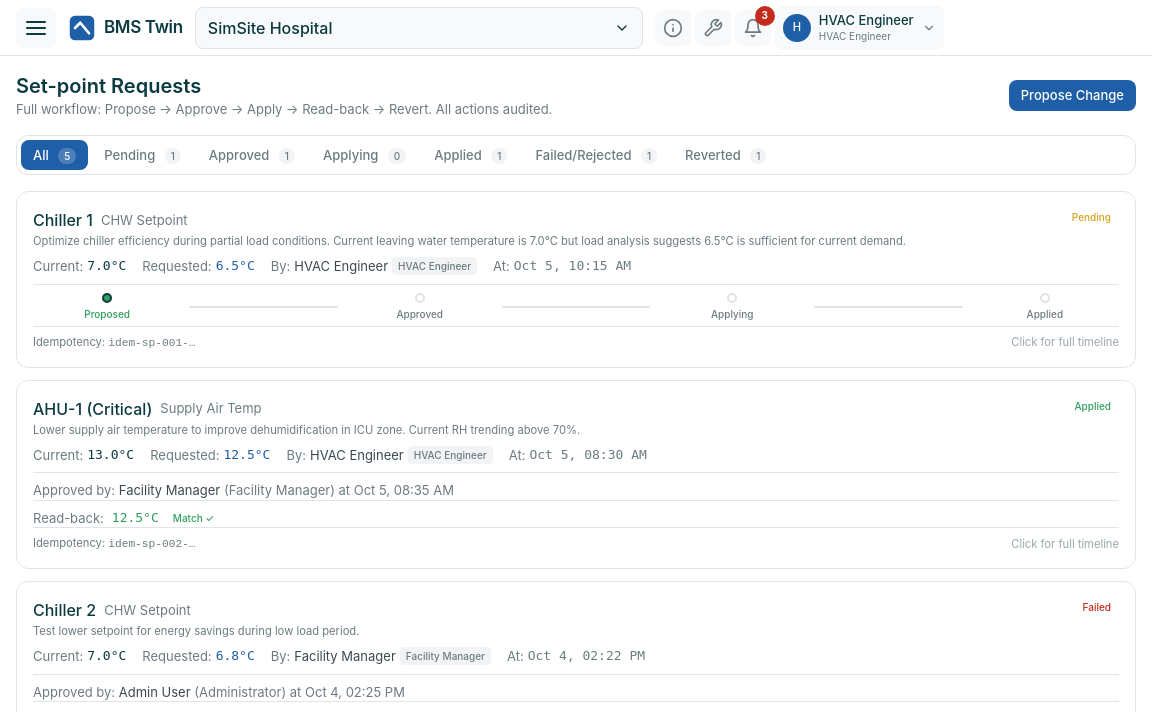
Test: Setpoints page › opens the request detail timeline when a request is clicked
Click the text "Chiller 1": x=63, y=220 [33,208,93,232]
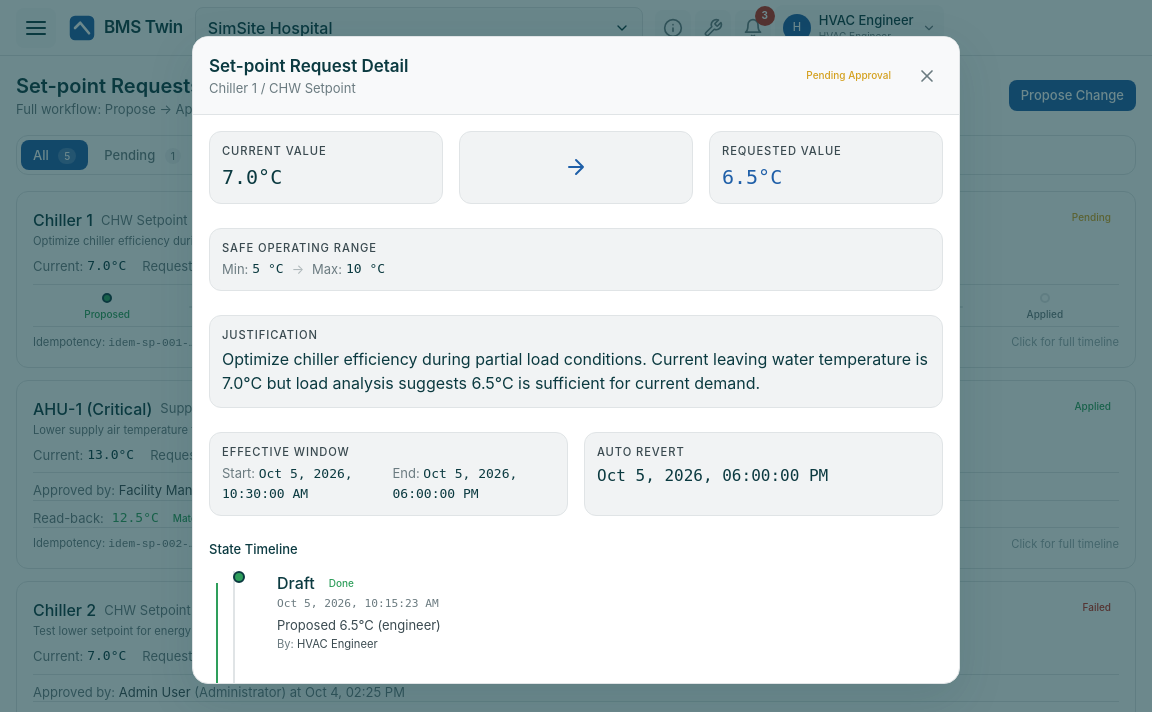
Expected: the heading "Set-point Request Detail" is shown, [209,53,408,79]
